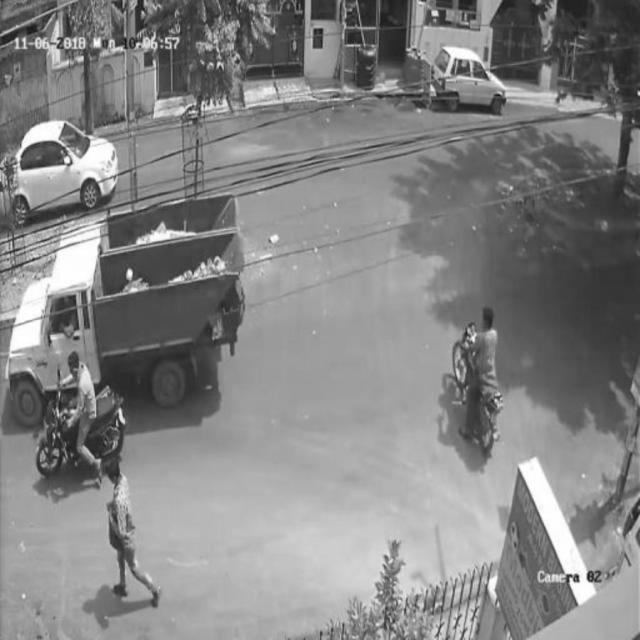person: (102, 456, 163, 607)
vehicle: (17, 123, 125, 211), (42, 348, 118, 472), (448, 315, 504, 449), (431, 40, 509, 118)
